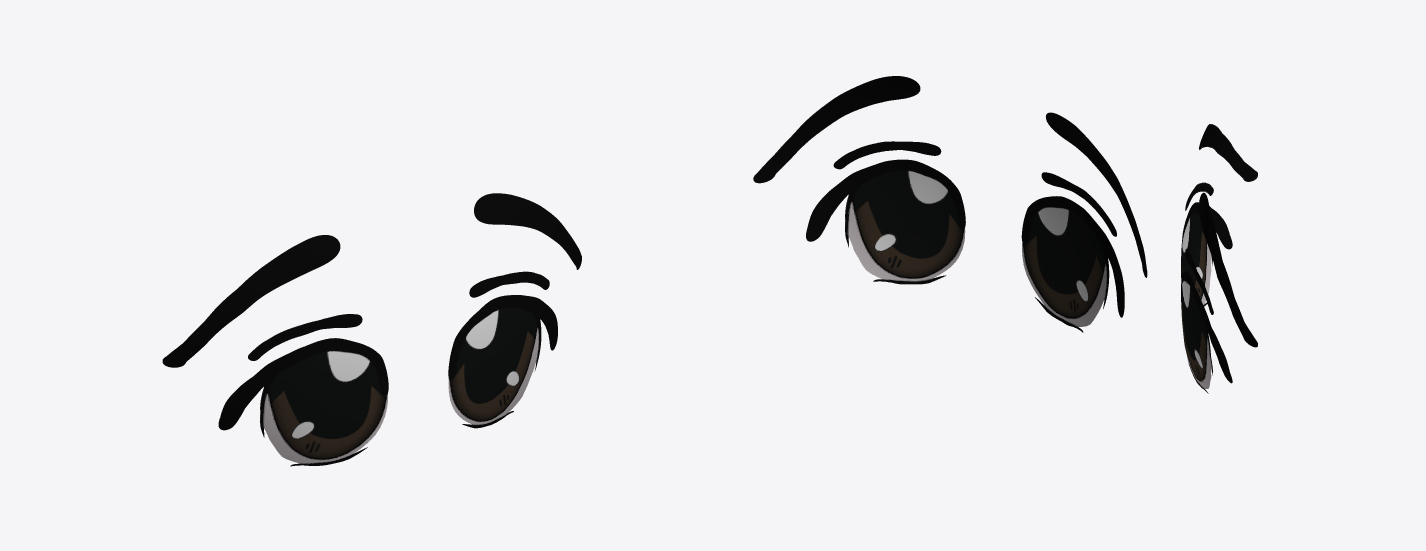
Rendered from Milady_Brown.glb.
The picture shows the model from 3 angles, left to right: view 1: azimuth 30°, elevation 25°; view 2: azimuth 150°, elevation 25°; view 3: azimuth 270°, elevation 25°; orthographic projection. The views are drawn at different scales.
Visible parts, largest first — view 1: Milady_Brown; view 2: Milady_Brown; view 3: Milady_Brown.
Part boxes in pixels (x1,y1,x2,y2): Milady_Brown: (162,193,581,466); Milady_Brown: (753,76,1147,332); Milady_Brown: (1181,124,1257,393).
Bounding box in the file's own units: 0.8936 × 0.6926 × 0.4046.
Materials: 1 (1 with a texture image).
